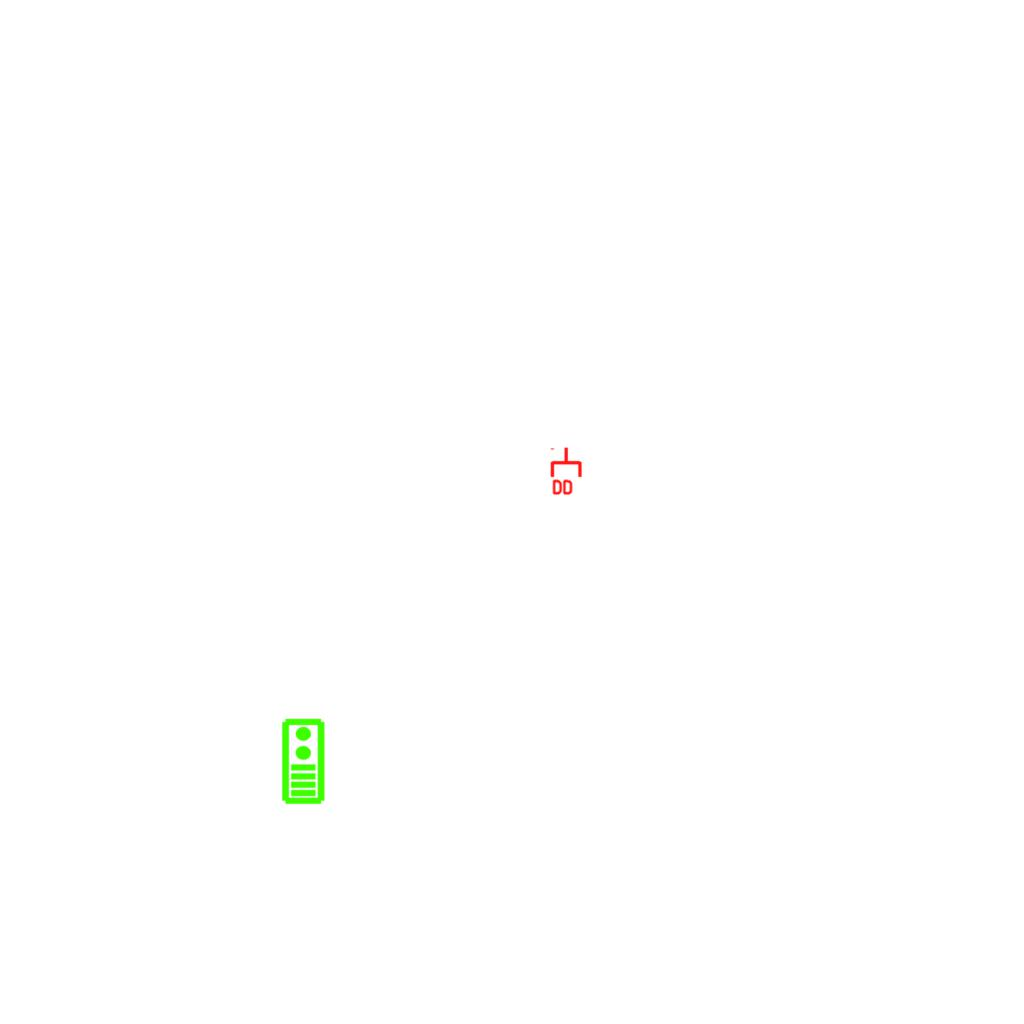Datenanschluss_zweifach: (550, 446, 584, 497)
Gegensprechanlage_mit_Video: (279, 717, 326, 805)
